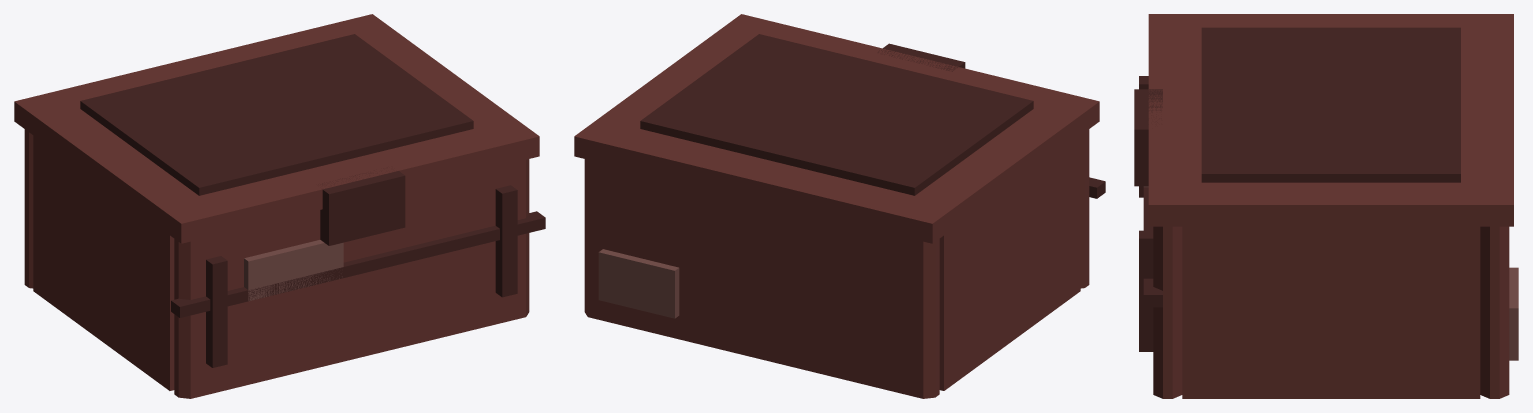
File: ancient_component_box_closed.obj
The picture shows the model from 3 angles, left to right: view 1: azimuth 30°, elevation 25°; view 2: azimuth 150°, elevation 25°; view 3: azimuth 270°, elevation 25°; orthographic projection. The views are drawn at different scales.
Parts seen in each view (by area): view 1: ancient_component_box_closed; view 2: ancient_component_box_closed; view 3: ancient_component_box_closed.
Boxes of the visible parts, left/top/right/bottom form: ancient_component_box_closed: left=14, top=14, right=545, bottom=398; ancient_component_box_closed: left=574, top=14, right=1105, bottom=398; ancient_component_box_closed: left=1134, top=14, right=1518, bottom=398.
Size of the model in its own units: 0.96 by 0.47 by 0.8.
